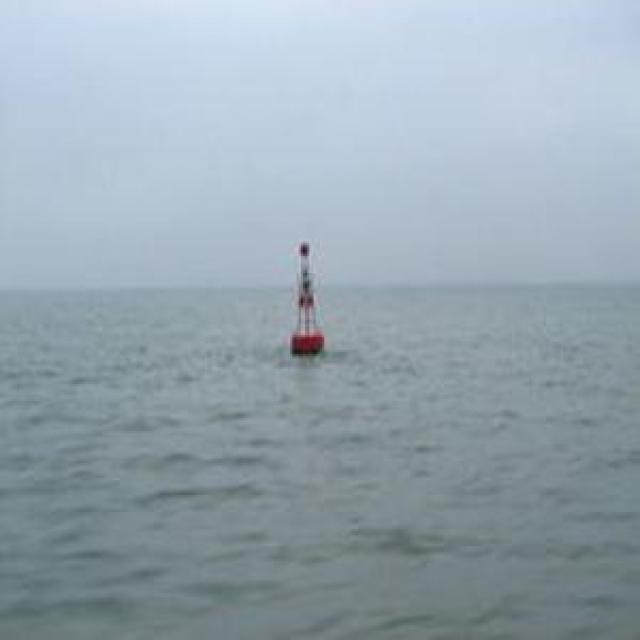buoy: (283, 232, 331, 362)
